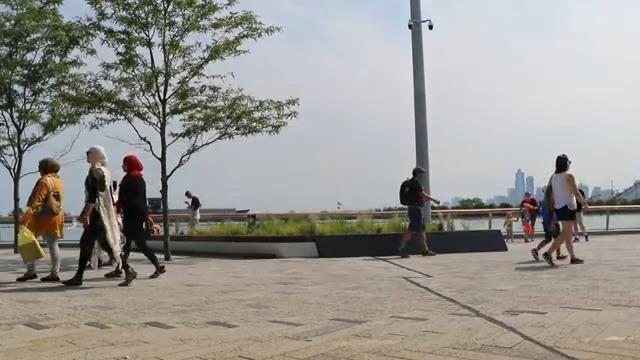no-helmet: (86, 145, 108, 166), (554, 154, 571, 174)
